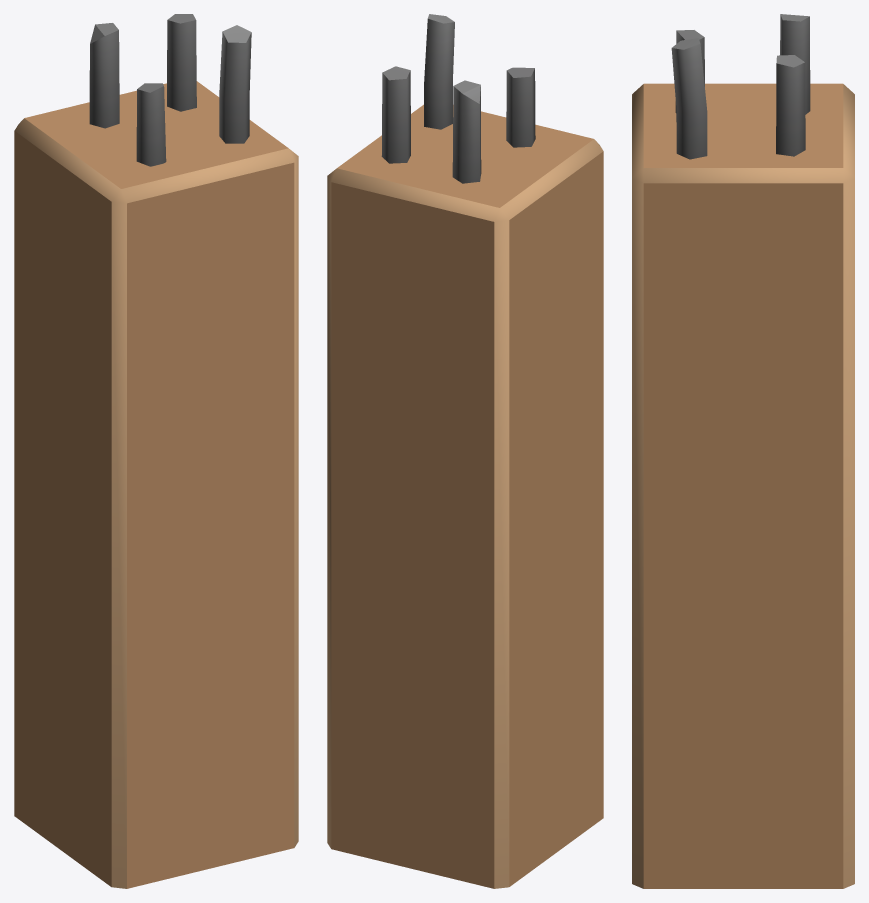
The model's file is Pilar_E_2.obj.
3 renders of one model, left to right at view 1: azimuth 30°, elevation 25°; view 2: azimuth 150°, elevation 25°; view 3: azimuth 270°, elevation 25°, orthographic. The views are drawn at different scales.
Visible parts, largest first — view 1: Pilar_E_2; view 2: Pilar_E_2; view 3: Pilar_E_2.
Boxes of the visible parts, x1,y1,x2,y2 form: Pilar_E_2: [14, 14, 298, 888]; Pilar_E_2: [327, 14, 603, 888]; Pilar_E_2: [632, 14, 854, 888].
Size of the model in its own units: 0.5496 by 2.26 by 0.551.
